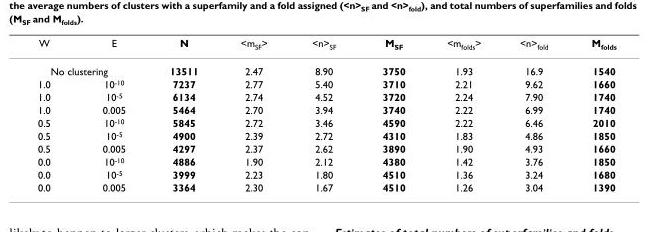table: (36, 36, 615, 193)
table column: (425, 36, 499, 193), (146, 36, 218, 193), (75, 36, 146, 193), (218, 36, 289, 193), (499, 36, 569, 193), (289, 36, 358, 193), (358, 36, 425, 193), (569, 36, 615, 193), (36, 36, 75, 193)
table column header: (36, 36, 615, 57)
table row: (36, 36, 615, 57), (36, 57, 615, 77), (36, 89, 615, 102), (36, 102, 615, 115), (36, 115, 615, 128), (36, 128, 615, 141), (36, 141, 615, 154), (36, 154, 615, 167), (36, 167, 615, 180), (36, 180, 615, 193), (36, 77, 615, 89)
table spanning cell: (36, 57, 146, 77)
